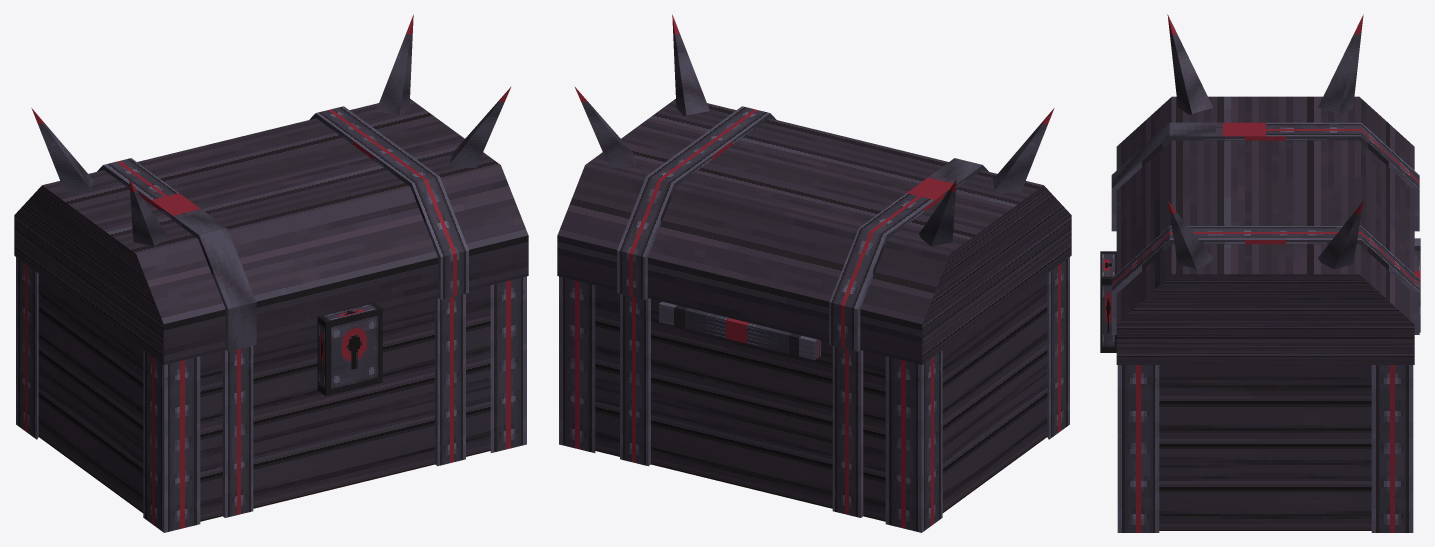
Rendered from chest_vampire.glb.
3 views of the same model, side by side, from view 1: azimuth 30°, elevation 25°; view 2: azimuth 150°, elevation 25°; view 3: azimuth 270°, elevation 25° (orthographic).
Parts seen in each view (by area): view 1: lid, base, lock; view 2: lid, base; view 3: lid, base, lock.
Boxes of the visible parts, box(x1,y1,x2,y2) form: lid: box(14, 14, 528, 364); base: box(16, 257, 526, 532); lock: box(317, 302, 382, 396); lid: box(557, 14, 1071, 364); base: box(559, 257, 1069, 532); lid: box(1111, 14, 1419, 364); base: box(1117, 238, 1420, 532); lock: box(1100, 251, 1116, 352).
Size of the model in its own units: 1.08 by 0.912 by 0.785.
1 material, 1 textured.
